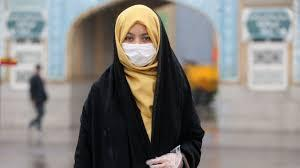Wearing Mask: (110, 4, 168, 70)
